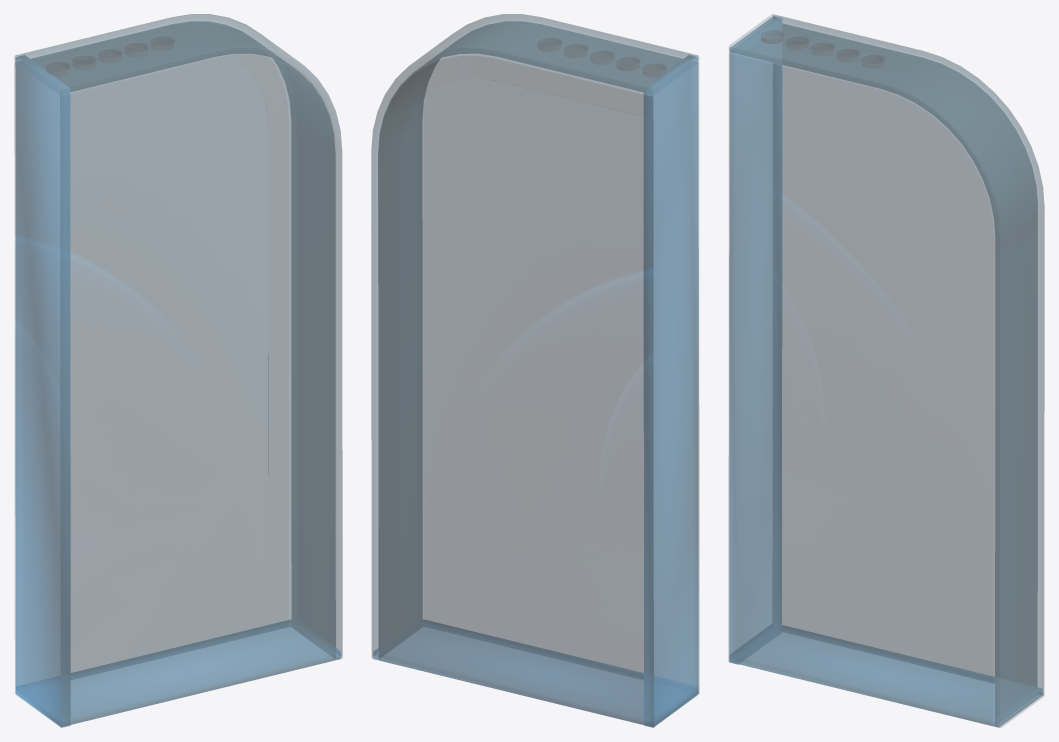
3 views of the same model, side by side, from view 1: azimuth 30°, elevation 25°; view 2: azimuth 150°, elevation 25°; view 3: azimuth 330°, elevation 25° (orthographic). The views are drawn at different scales.
Parts seen in each view (by area): view 1: Apple_Logo_Logo_0, Box003, Box006; view 2: Apple_Logo_Logo_0, Box003, Box006; view 3: Apple_Logo_Logo_0, Box003, Box006.
Boxes of the visible parts, x1,y1,x2,y2 form: Apple_Logo_Logo_0: [14, 14, 342, 726]; Box003: [15, 55, 70, 727]; Box006: [16, 620, 340, 726]; Apple_Logo_Logo_0: [371, 14, 699, 726]; Box003: [644, 55, 698, 727]; Box006: [373, 619, 698, 726]; Apple_Logo_Logo_0: [728, 14, 1044, 727]; Box003: [729, 16, 781, 664]; Box006: [729, 623, 1042, 727].
Bounding box in the file's own units: 48.66 × 105 × 13.79.
8 materials, 2 textured.
